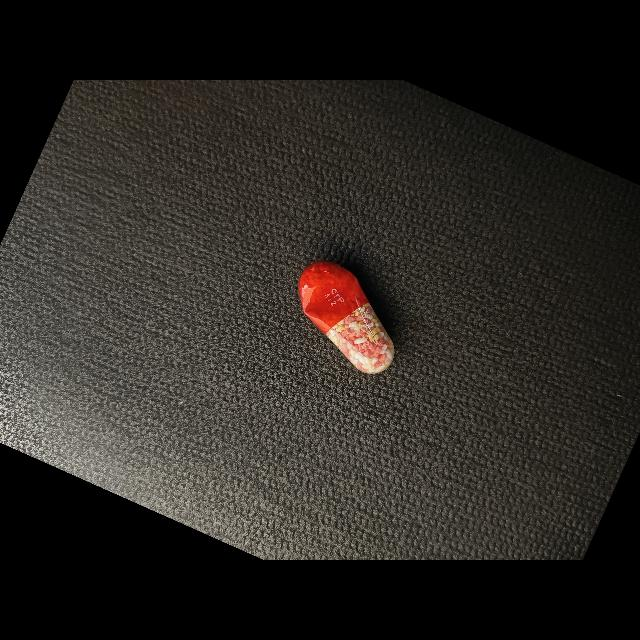Defective Capsule: (298, 261, 395, 374)
